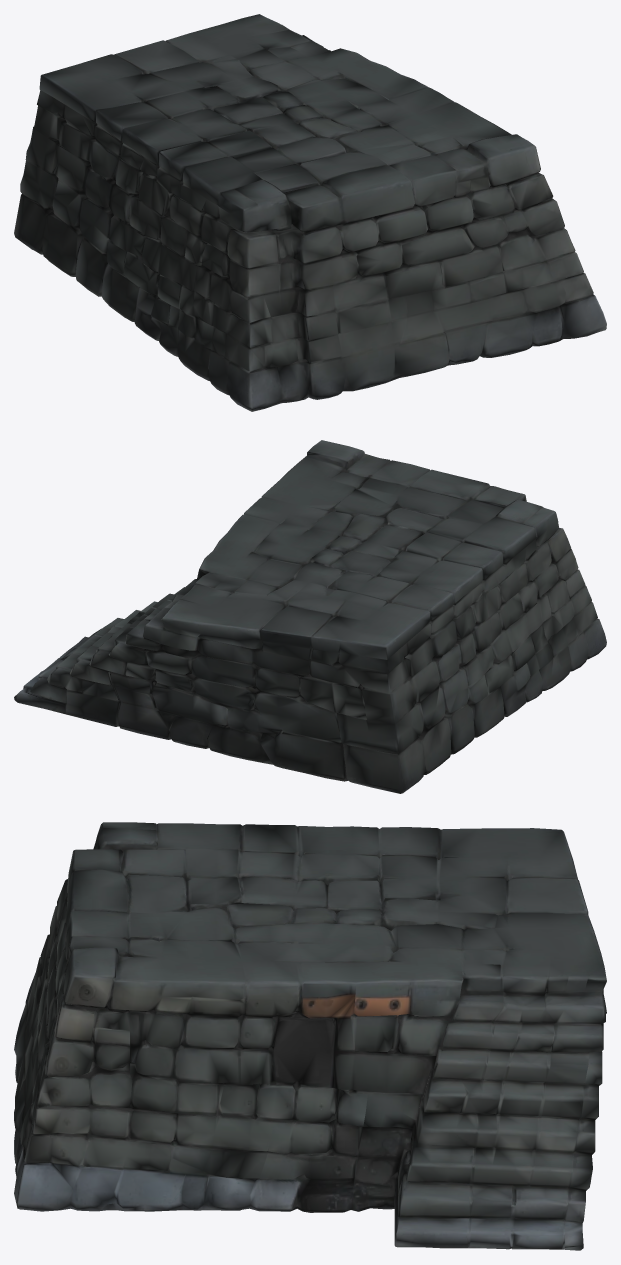
The model's file is kf-stone-platform.glb.
3 renders of one model, top to bottom at view 1: azimuth 30°, elevation 25°; view 2: azimuth 150°, elevation 25°; view 3: azimuth 270°, elevation 25°, orthographic. The views are drawn at different scales.
Parts seen in each view (by area): view 1: Supplied kf-stone-platform; view 2: Supplied kf-stone-platform; view 3: Supplied kf-stone-platform.
Part boxes in pixels (left/top/right/bottom): Supplied kf-stone-platform: left=14, top=14, right=606, bottom=411; Supplied kf-stone-platform: left=14, top=440, right=606, bottom=793; Supplied kf-stone-platform: left=14, top=822, right=606, bottom=1250.
Size of the model in its own units: 1 by 0.4012 by 1.
1 material, 1 textured.
